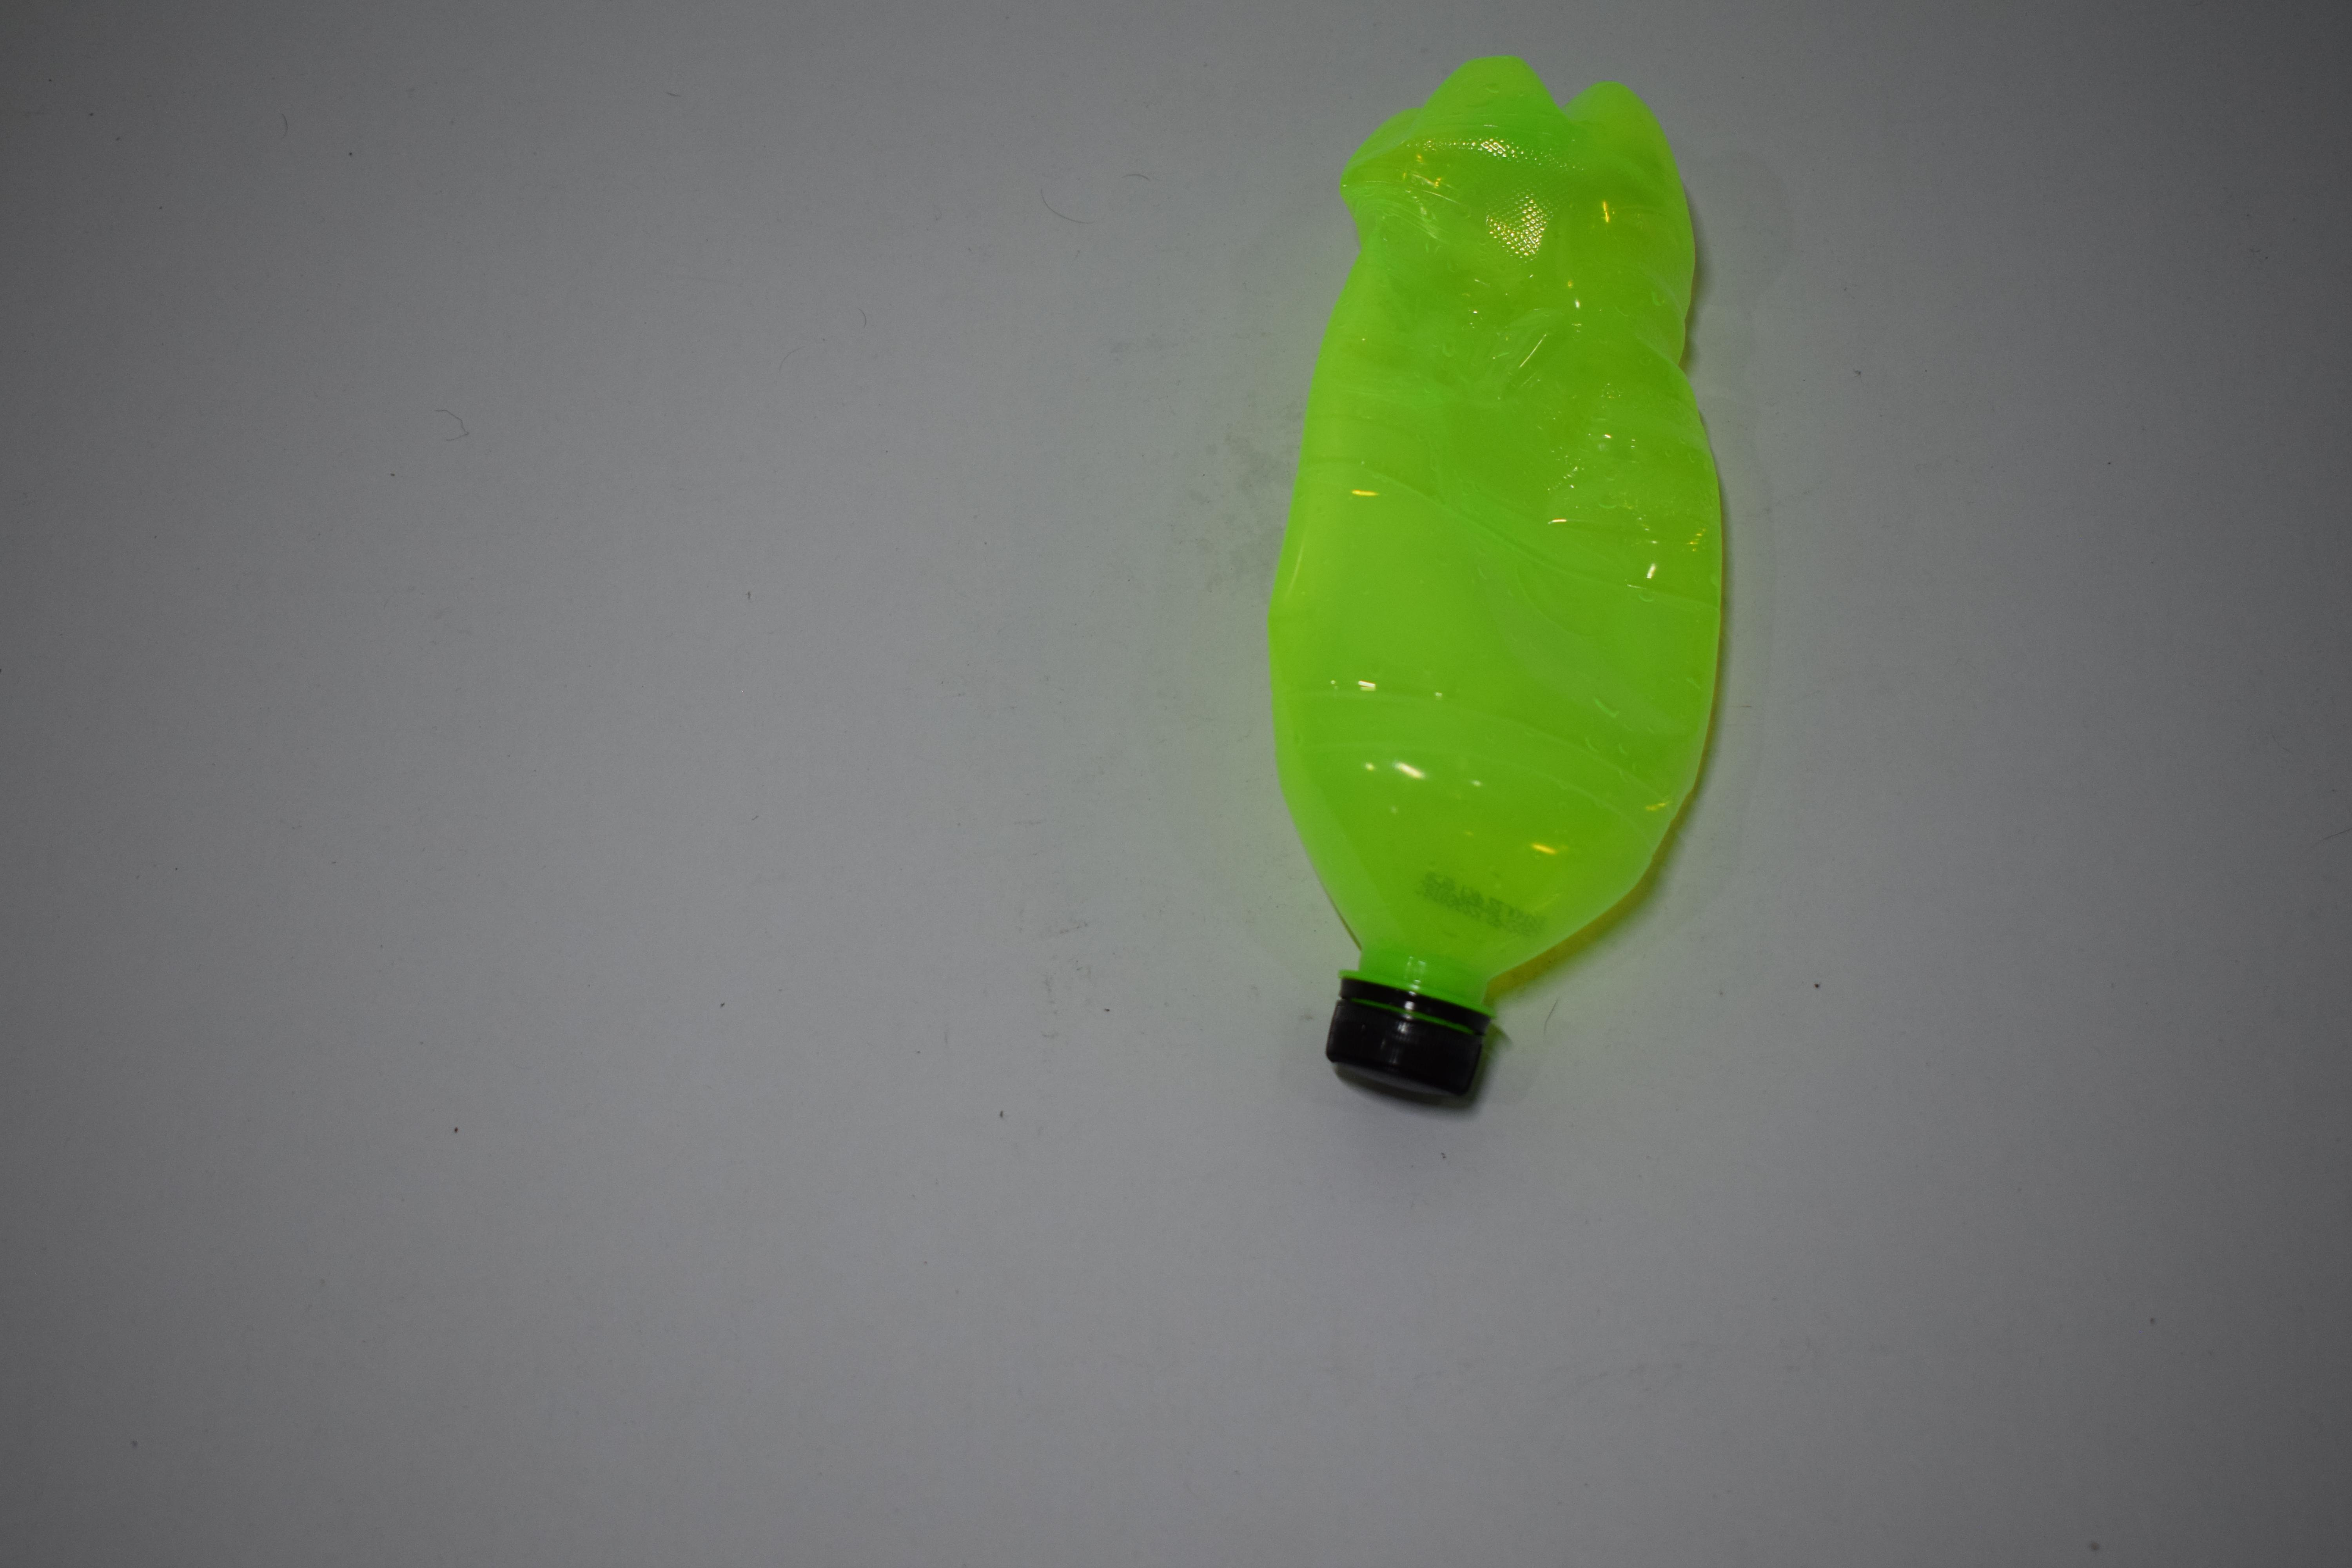bottle: (1263, 44, 1734, 1120)
